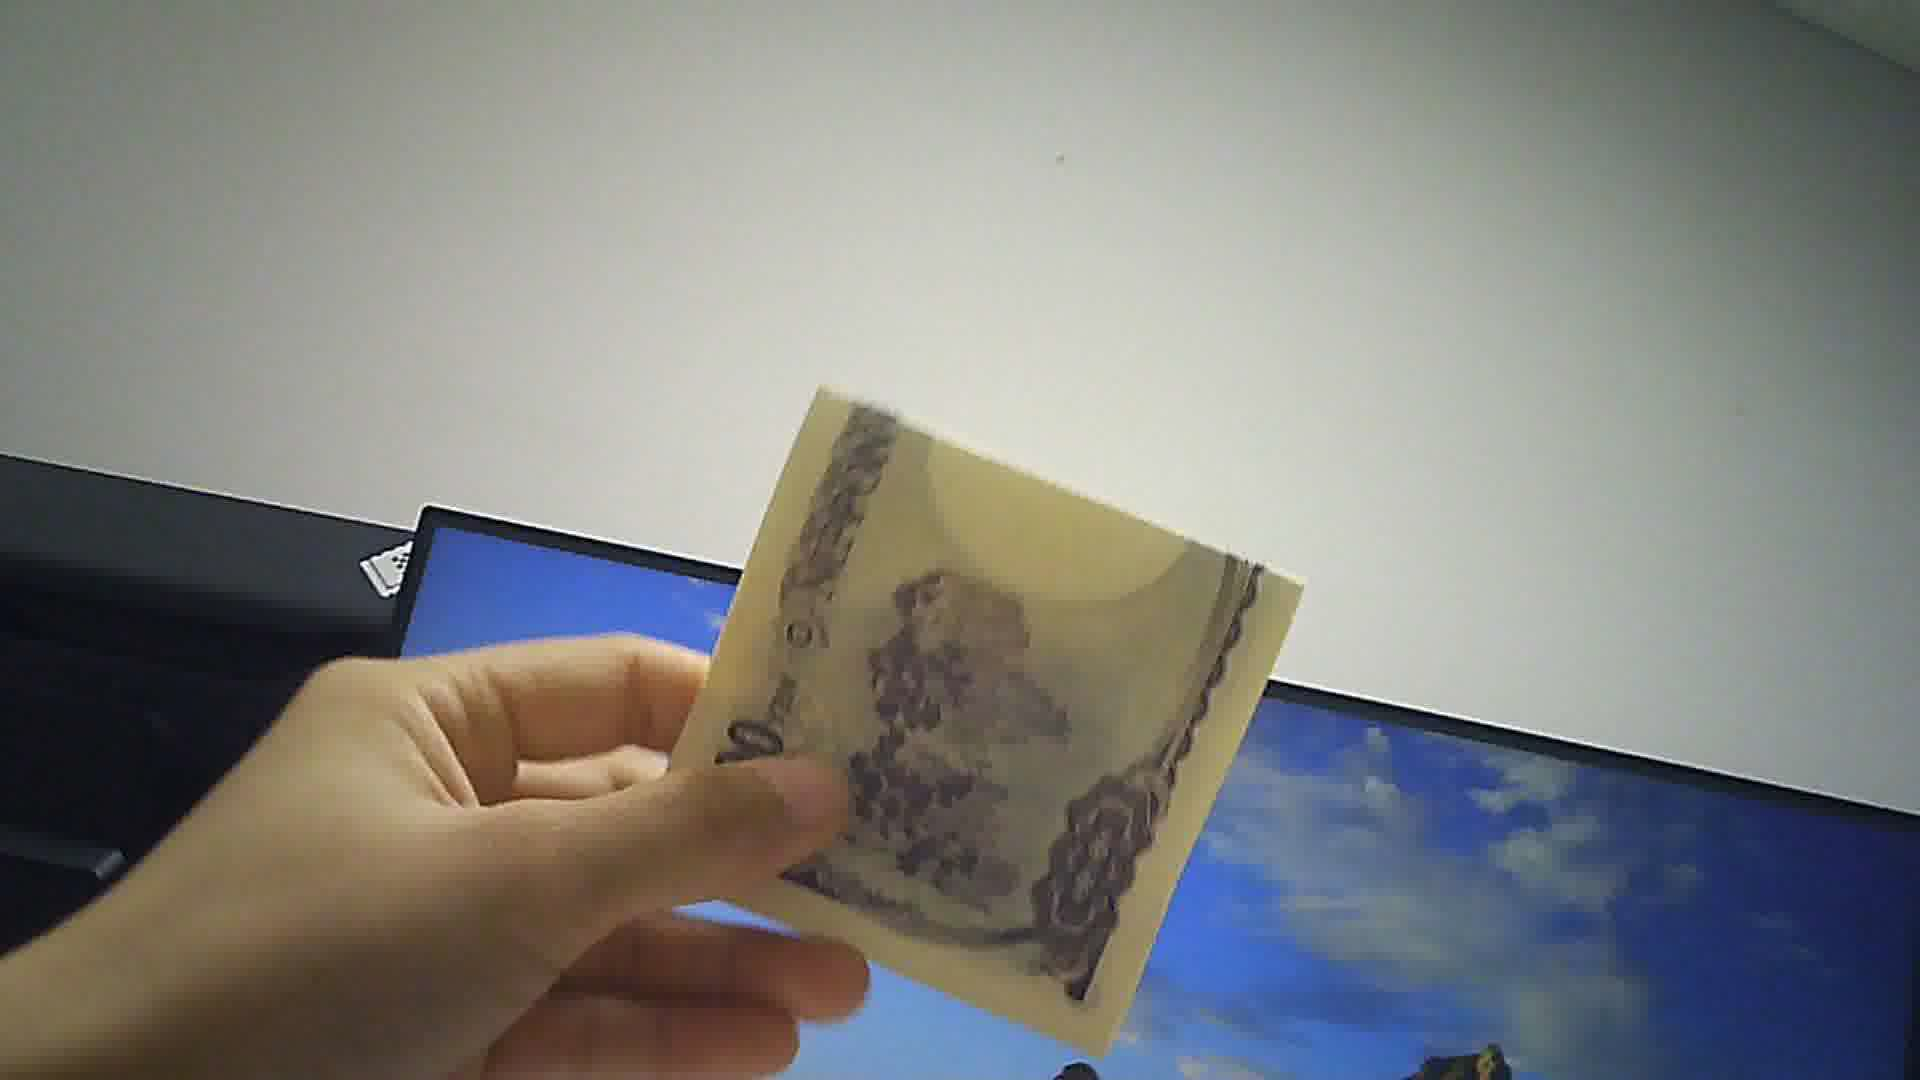5,000 Yen: (640, 377, 1323, 1043)
